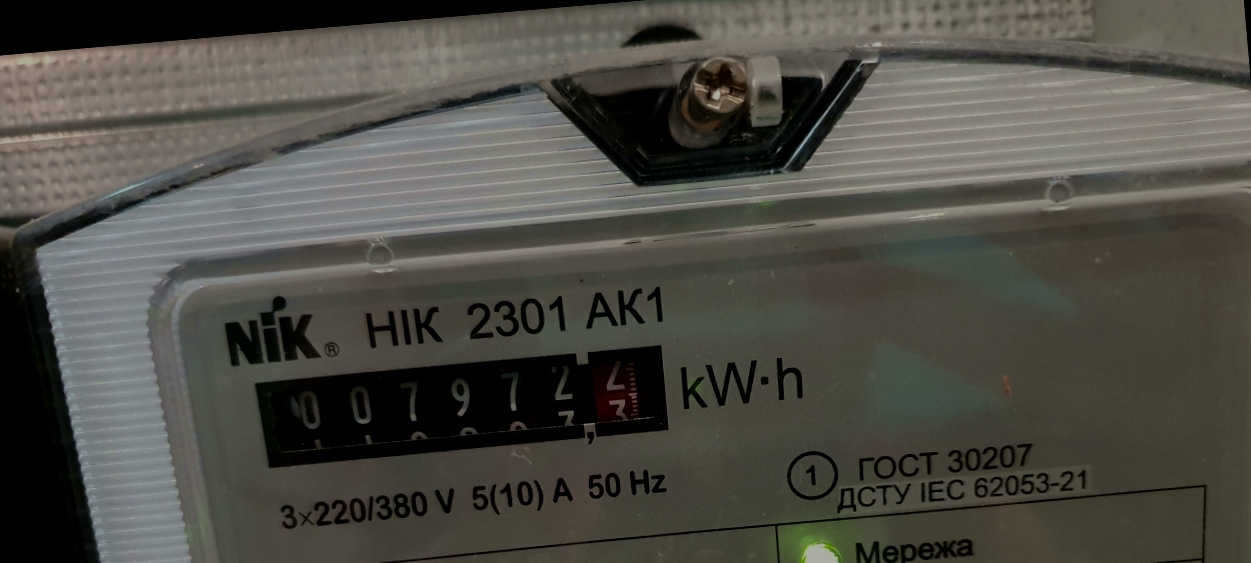0: (295, 386, 324, 430), (346, 381, 374, 425)
2: (548, 361, 575, 401), (600, 357, 626, 393)
3: (605, 394, 629, 421)
7: (496, 366, 526, 414), (396, 376, 424, 423)
9: (446, 373, 472, 417)
screen: (237, 330, 687, 482)
